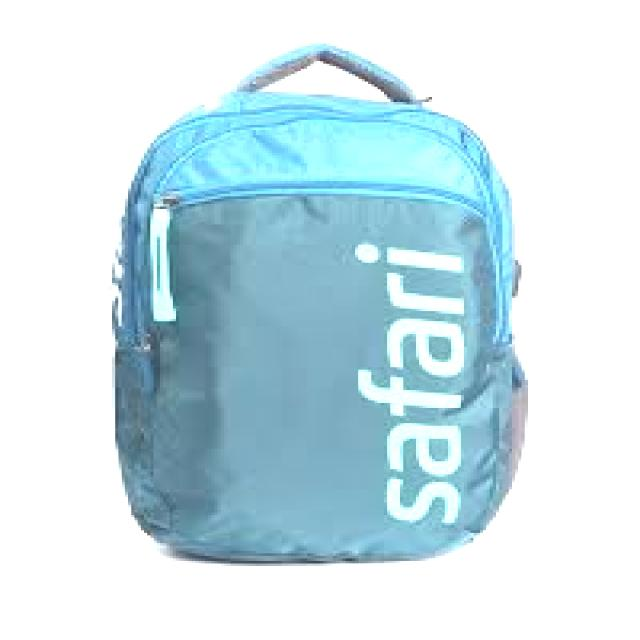backpack: (107, 42, 529, 564)
